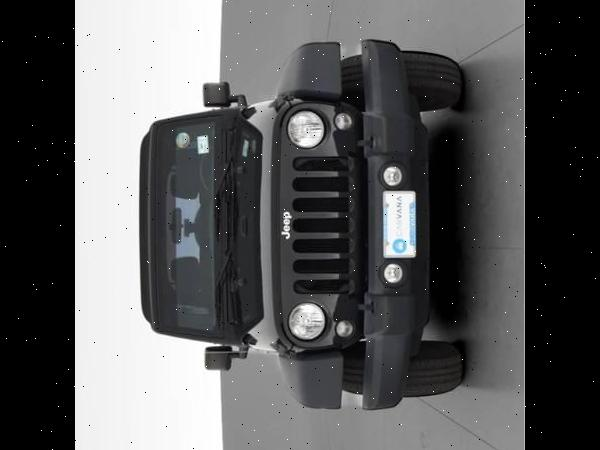Front_Bumper: (361, 34, 427, 407), (403, 48, 465, 113), (409, 332, 472, 394)
Front_Fender: (275, 41, 344, 100), (280, 348, 349, 407)
Front_Windshield: (148, 108, 245, 343)
Grille: (275, 102, 365, 343)
Hood: (237, 95, 312, 346)
Left_Headlight: (282, 99, 325, 148)
Left_Mirror: (202, 82, 228, 107)
Right_Headlight: (282, 304, 327, 342)
Right_Mirror: (204, 345, 232, 370)
